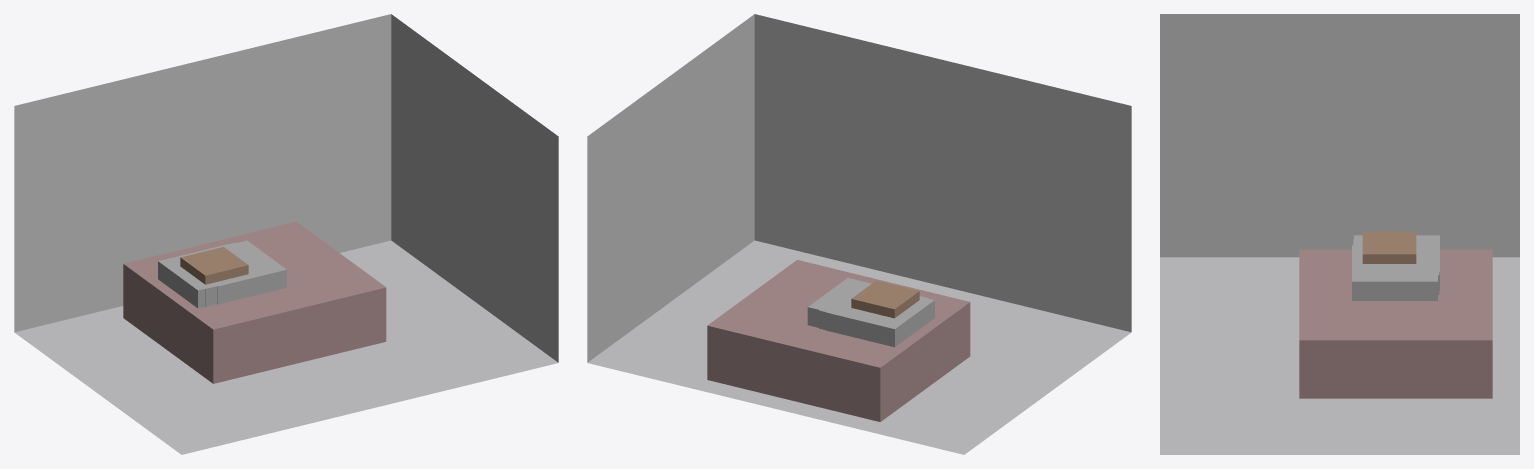
Rendered from optimised_layout.glb.
3 renders of one model, left to right at view 1: azimuth 30°, elevation 25°; view 2: azimuth 150°, elevation 25°; view 3: azimuth 270°, elevation 25°, orthographic. The views are drawn at different scales.
Visible parts, largest first — view 1: room, bed, bookShelf, chair, studyTable, tableLamp; view 2: room, bed, studyTable, chair, tableLamp, bookShelf; view 3: room, bed, bookShelf, chair, studyTable.
Part boxes in pixels (<box>): room: <box>14,14,558,454</box>; bed: <box>123,221,386,383</box>; bookShelf: <box>217,240,286,304</box>; chair: <box>180,247,248,284</box>; studyTable: <box>158,244,236,308</box>; tableLamp: <box>205,243,273,306</box>; room: <box>587,14,1131,454</box>; bed: <box>707,260,970,421</box>; studyTable: <box>825,298,934,347</box>; chair: <box>851,280,919,318</box>; tableLamp: <box>819,281,927,329</box>; bookShelf: <box>807,278,873,327</box>; room: <box>1160,14,1519,454</box>; bed: <box>1299,249,1492,398</box>; bookShelf: <box>1352,245,1437,300</box>; chair: <box>1362,231,1416,263</box>; studyTable: <box>1354,235,1439,290</box>.
Size of the model in its own units: 4.36 by 2.5 by 3.35.
